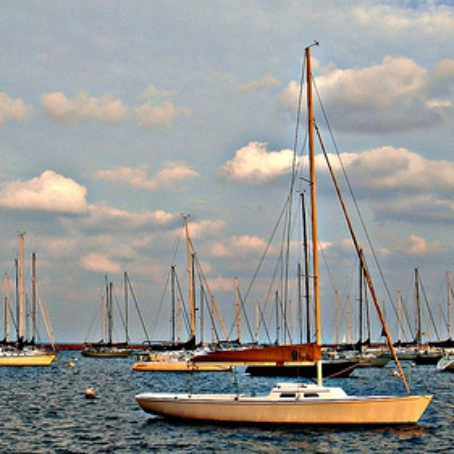boat: (145, 374, 432, 441), (132, 346, 361, 384), (75, 331, 135, 363), (1, 340, 60, 365)
sea: (9, 369, 450, 454)
sky: (8, 2, 454, 329)
